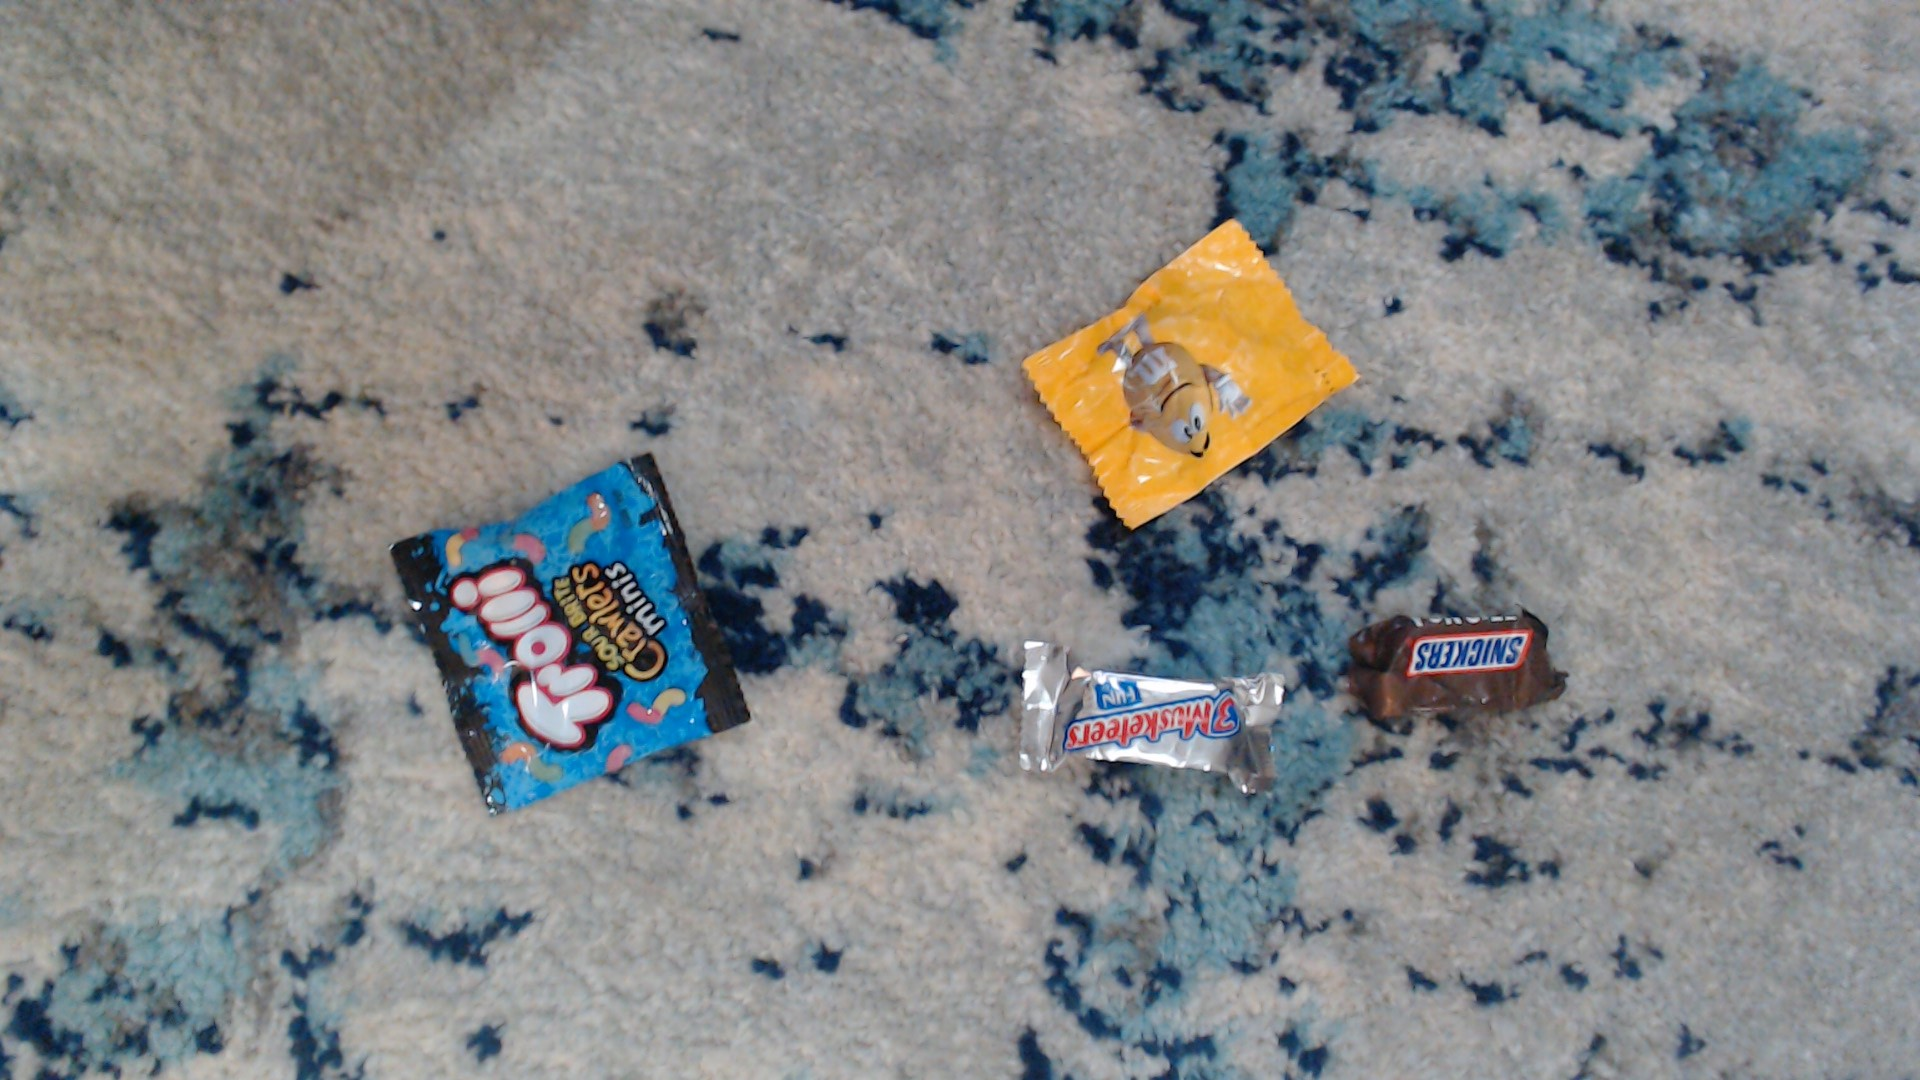MMs_regular: (1006, 212, 1370, 543)
gummy_worms: (349, 462, 771, 836)
snickers: (1338, 593, 1582, 736)
three_musketeers: (996, 628, 1302, 832)
